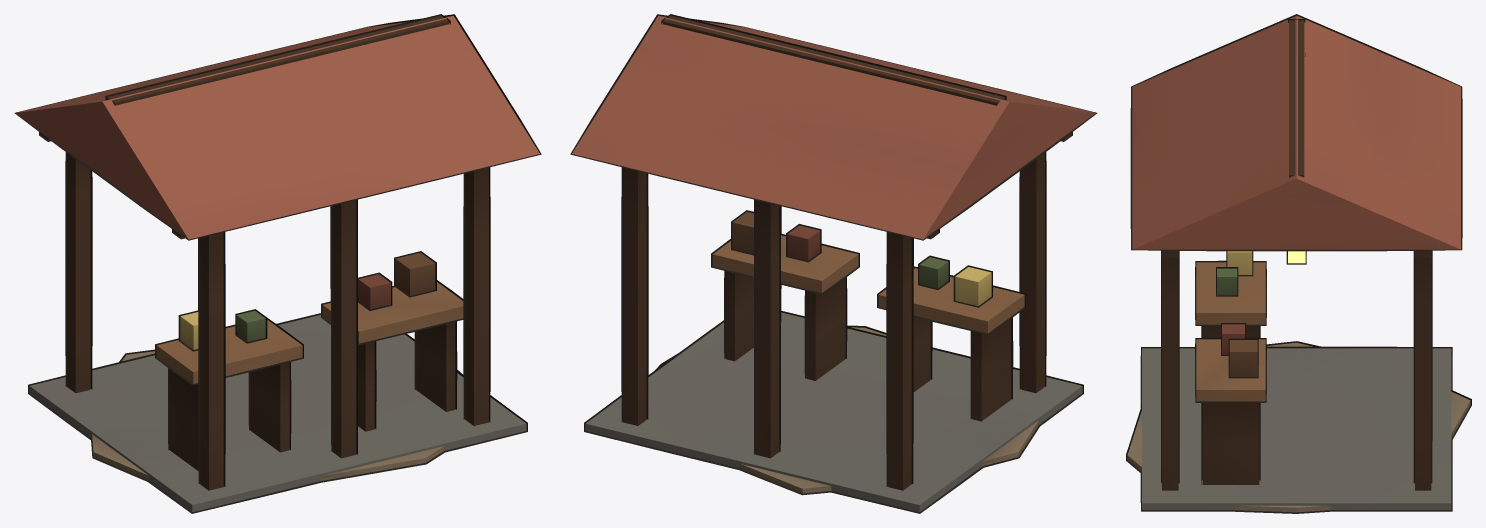
Rendered from marche_couvert.glb.
3 renders of one model, left to right at view 1: azimuth 30°, elevation 25°; view 2: azimuth 150°, elevation 25°; view 3: azimuth 270°, elevation 25°, orthographic. The views are drawn at different scales.
Parts seen in each view (by area): view 1: marche_couvert, marche_couvert_outline; view 2: marche_couvert, marche_couvert_outline; view 3: marche_couvert, marche_couvert_outline.
Boxes of the visible parts, x1,y1,x2,y2 form: marche_couvert: (16,15,539,512); marche_couvert_outline: (14,14,541,513); marche_couvert: (572,15,1095,512); marche_couvert_outline: (570,14,1097,513); marche_couvert: (1127,15,1470,512); marche_couvert_outline: (1126,14,1471,513).
Size of the model in its own units: 3.15 by 2.96 by 2.74.
